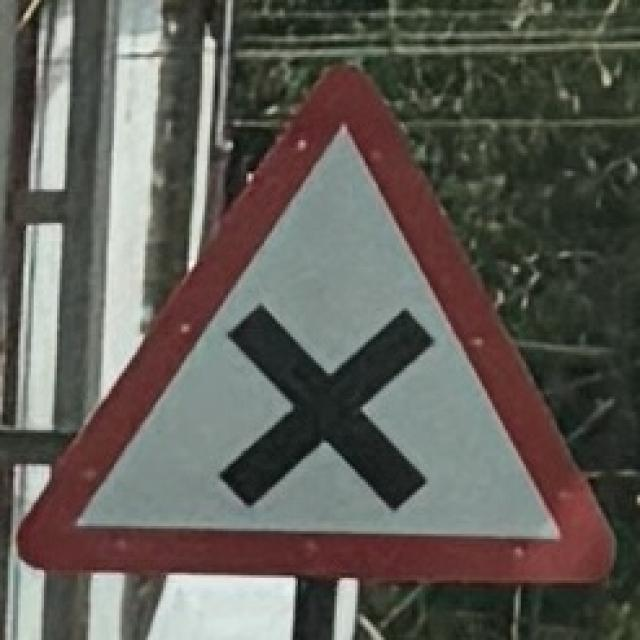CROSS_ROAD: (15, 47, 623, 595)
